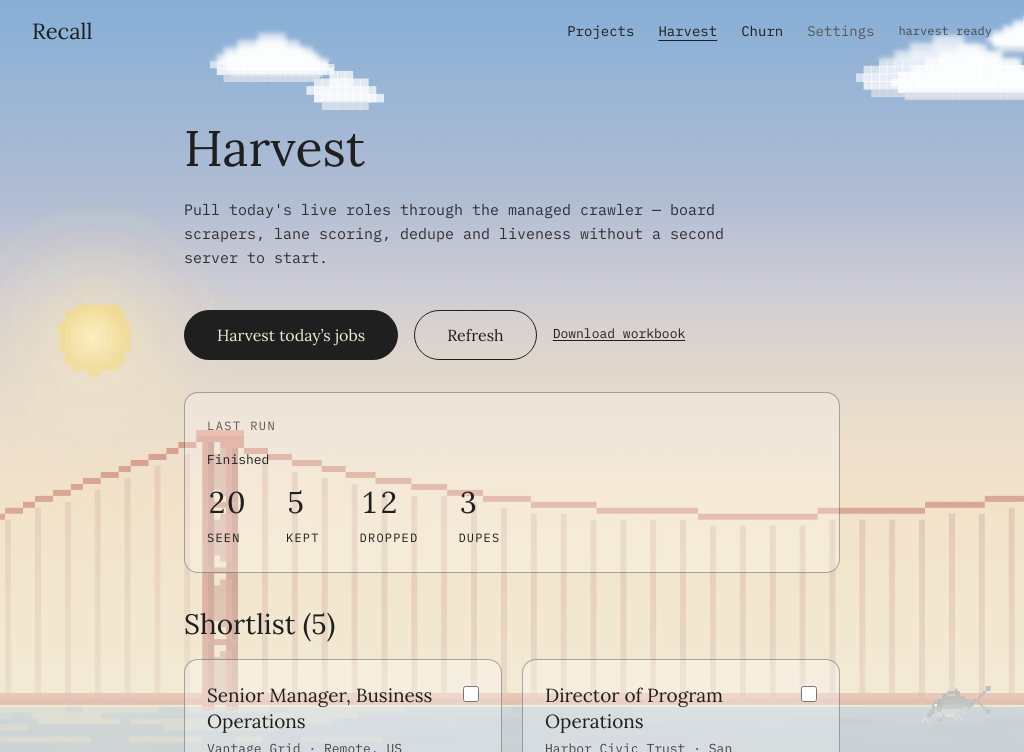
Scenario: Harvest against synthetic Furnace data › queues selected roles and hands them to Churn
The width and height of the screenshot is (1024, 752).
Check: the text "Senior Manager, Business Operations" is shown, box 207,682 -> 447,734
Click the checkbox named "Senior Manager, Business Operations" at {"x": 471, "y": 694}, box 463,686 -> 479,702
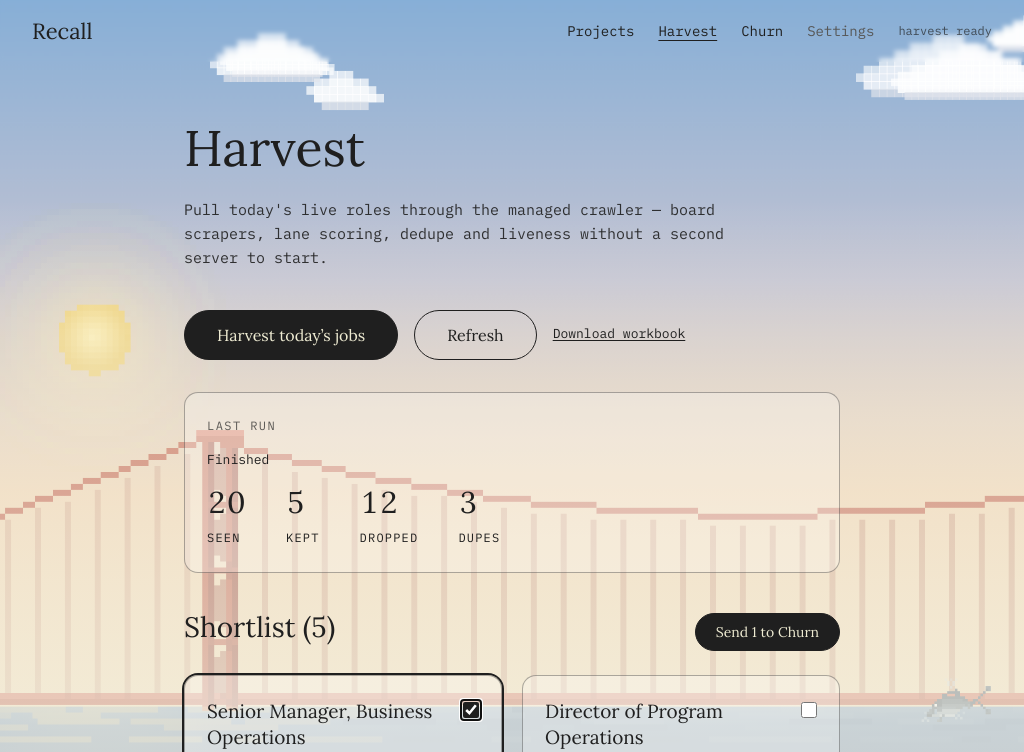
Click the checkbox named "Director of Program Operations" at {"x": 809, "y": 710}, box 801,702 -> 817,718
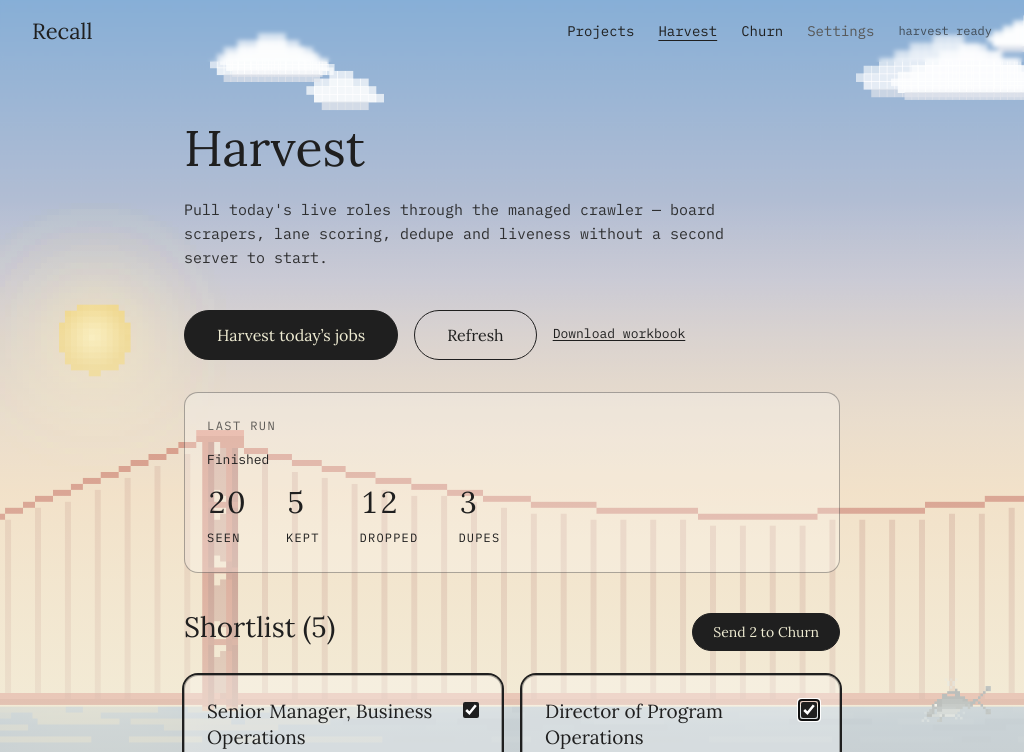
Click the button "Send 2 to Churn" at {"x": 766, "y": 632}, box 692,613 -> 840,651
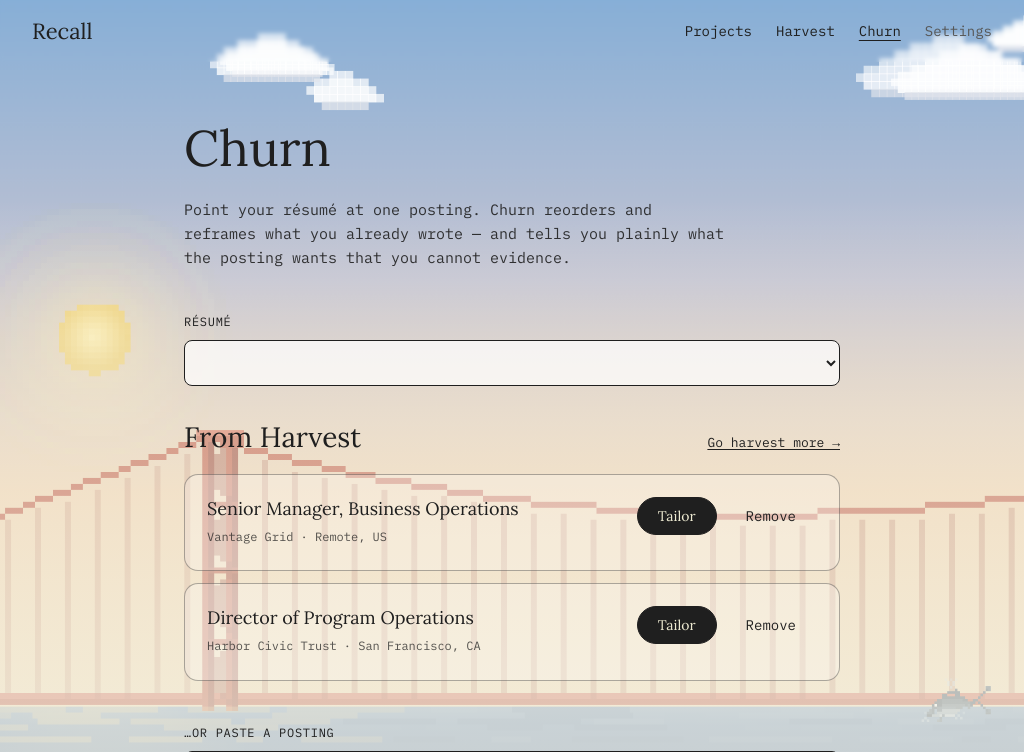
Check: the heading "Churn" is shown, box 184,116 -> 331,180
